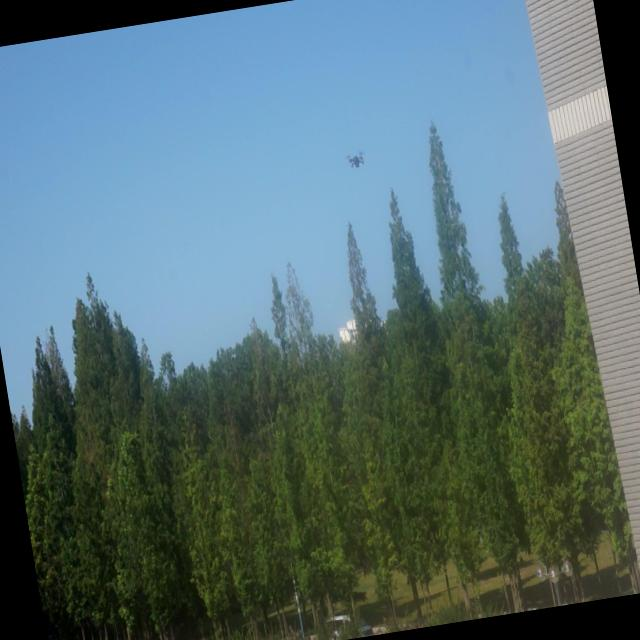drone: (344, 150, 369, 173)
